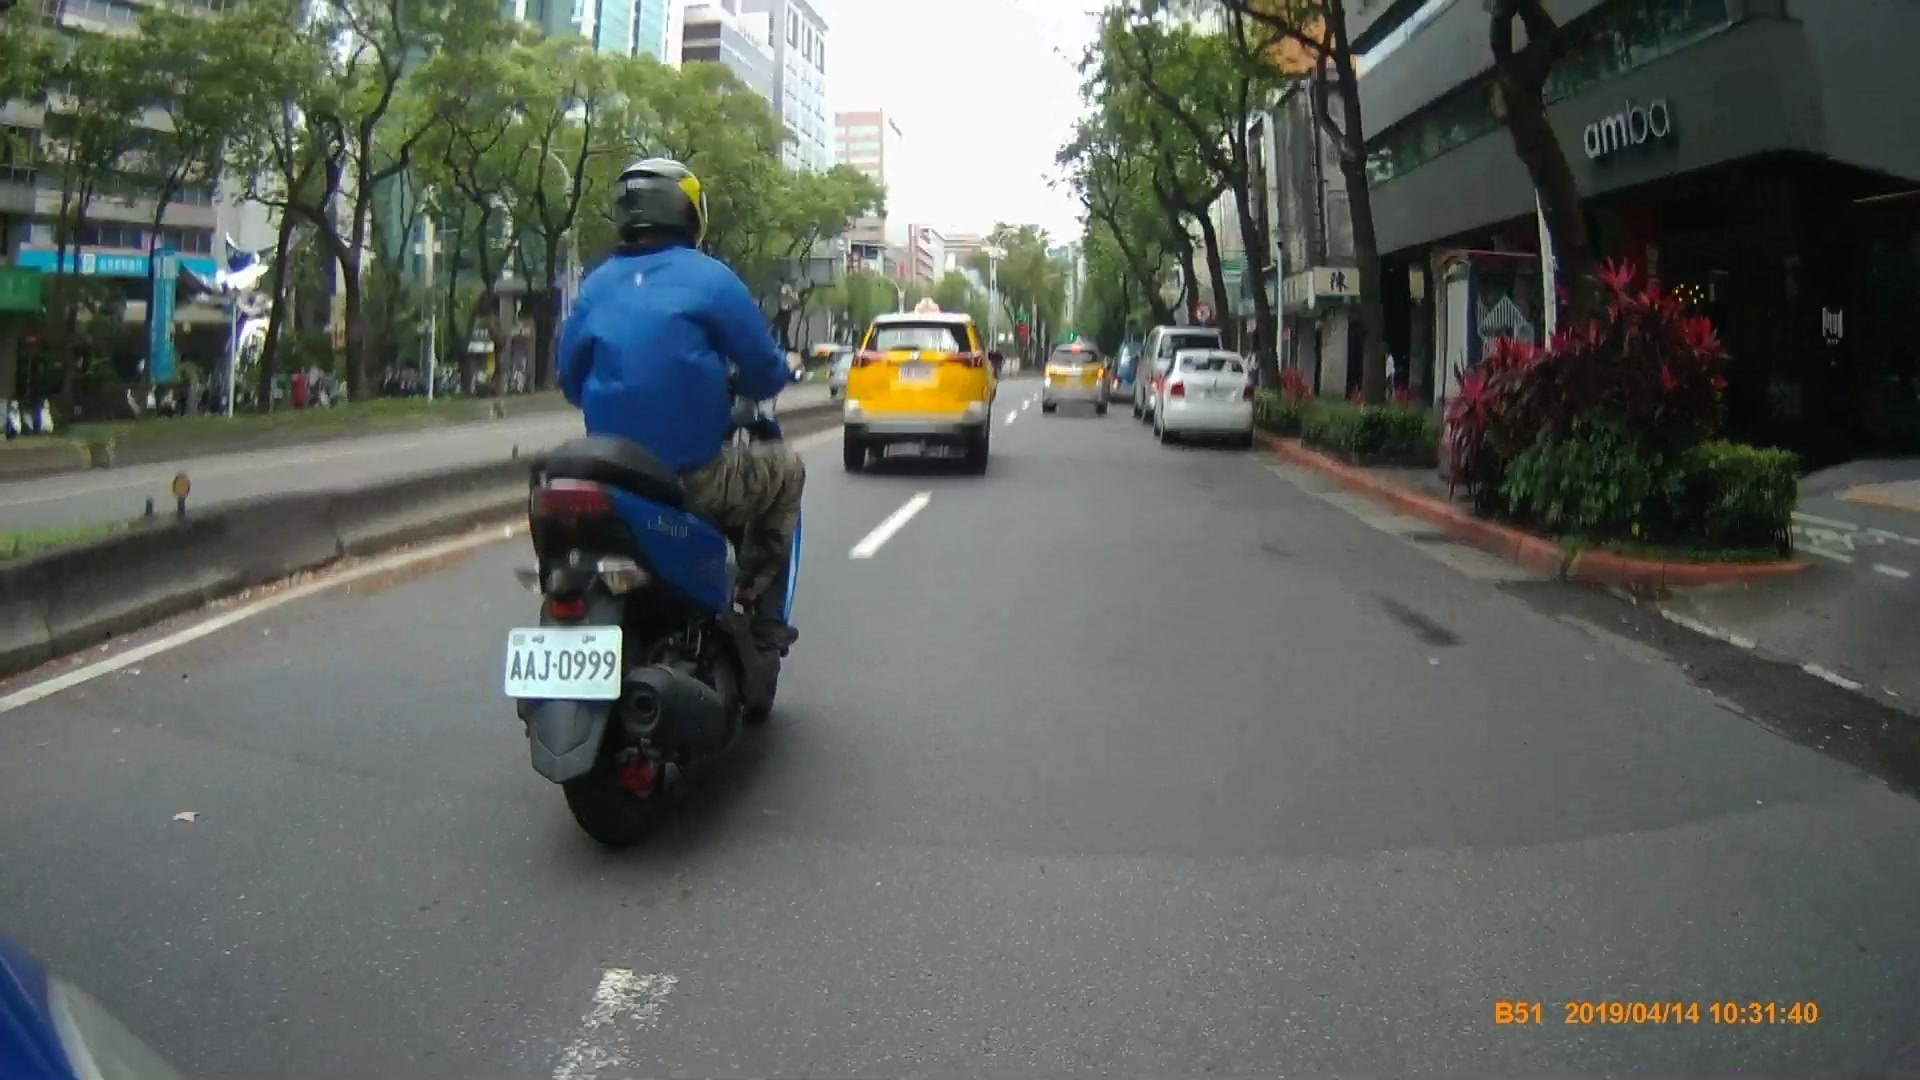License_plate: (507, 627, 625, 699), (899, 360, 933, 386)
